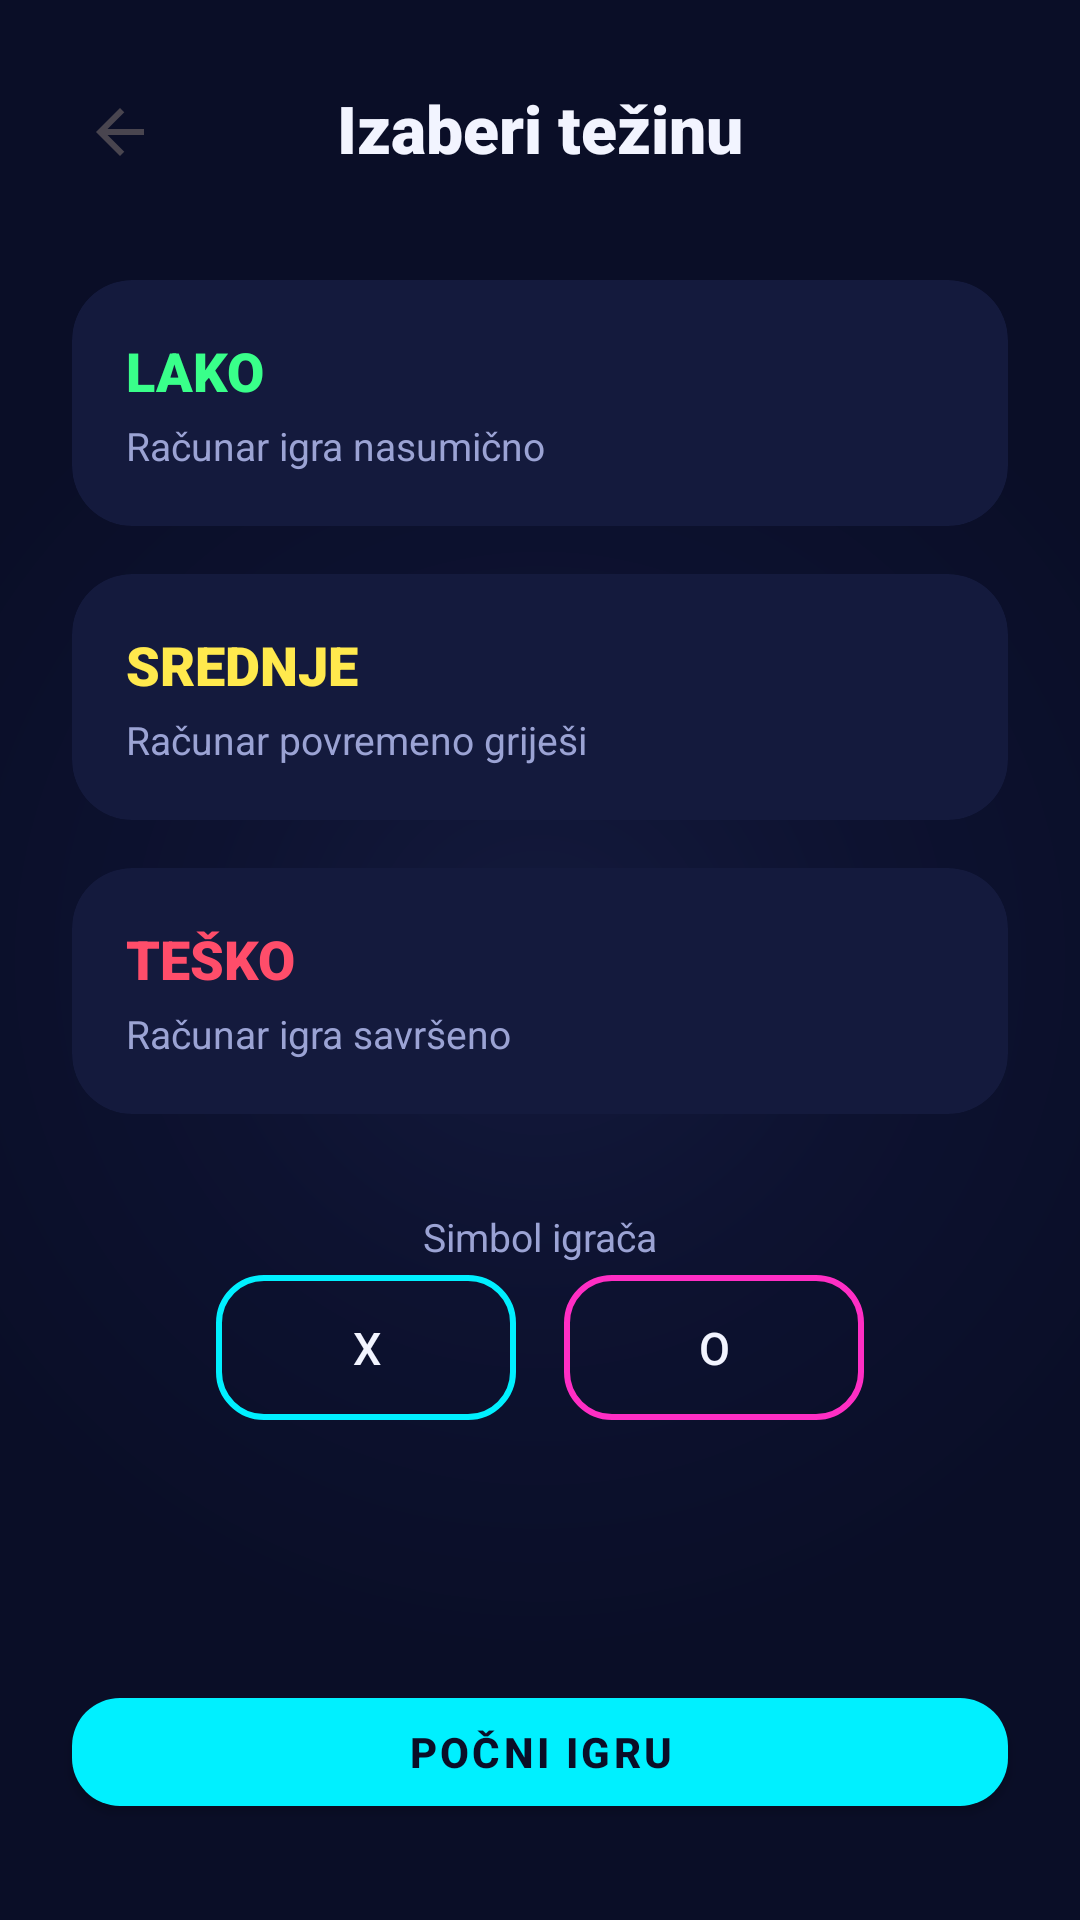

Where icons sit on this 1080px x 1920px app screen, as (x1, y1, x2, y2):
Nazad: (96, 108, 144, 156)
